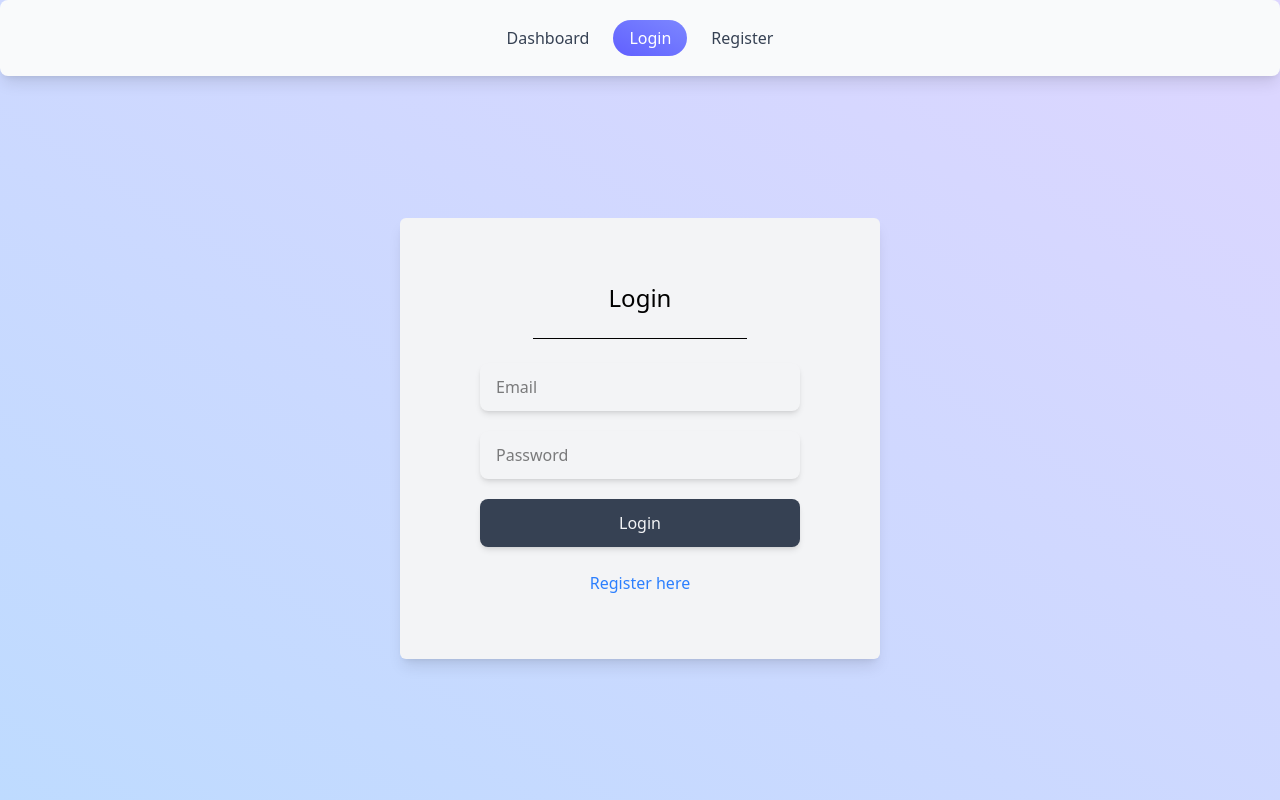
Test case: visiting login route › guest attempts to login with correct credentials
Expected: the heading "Login" is shown, [608,280,671,314]
Type "test@email.com" into the field with placeholder "Email".
click(640, 386); type("test@email.com")  # box [480,362,800,410]
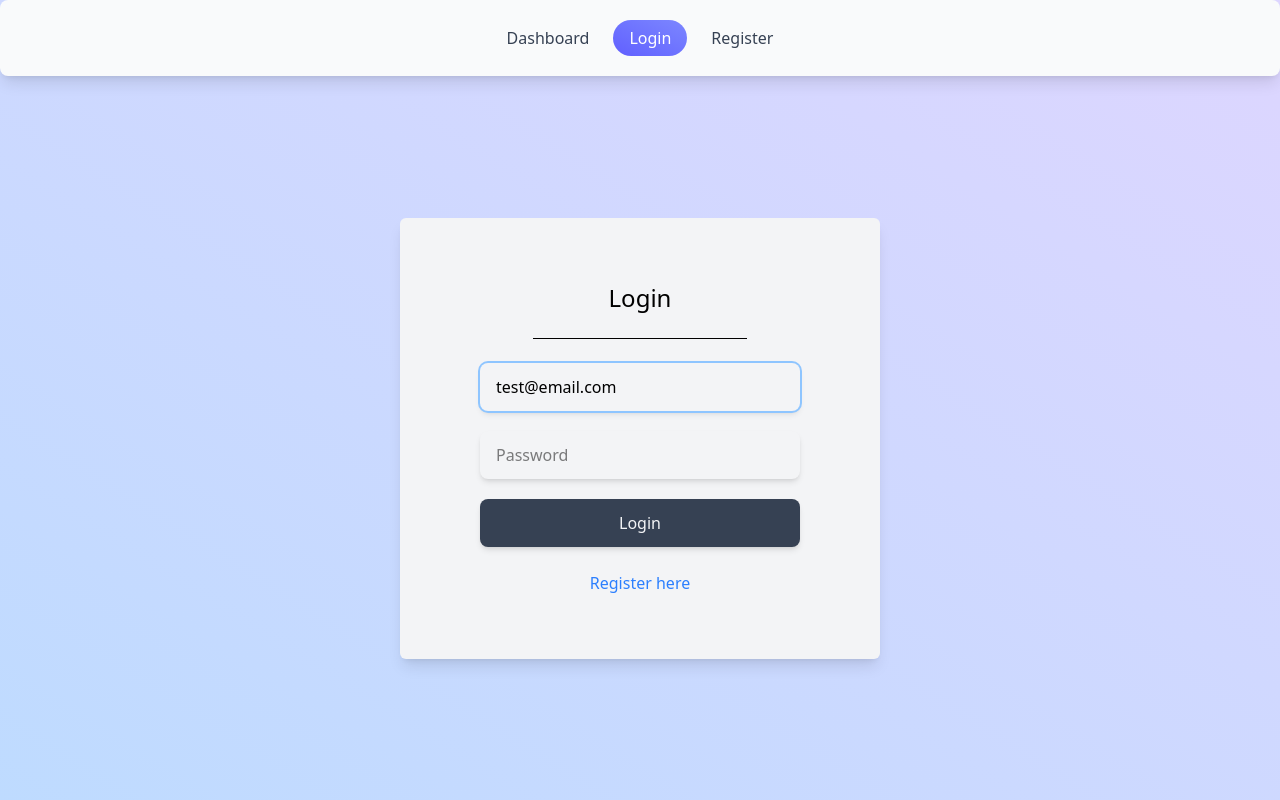
Type "password" into the password field with placeholder "Password".
click(640, 454); type("password")  # box [480,430,800,478]
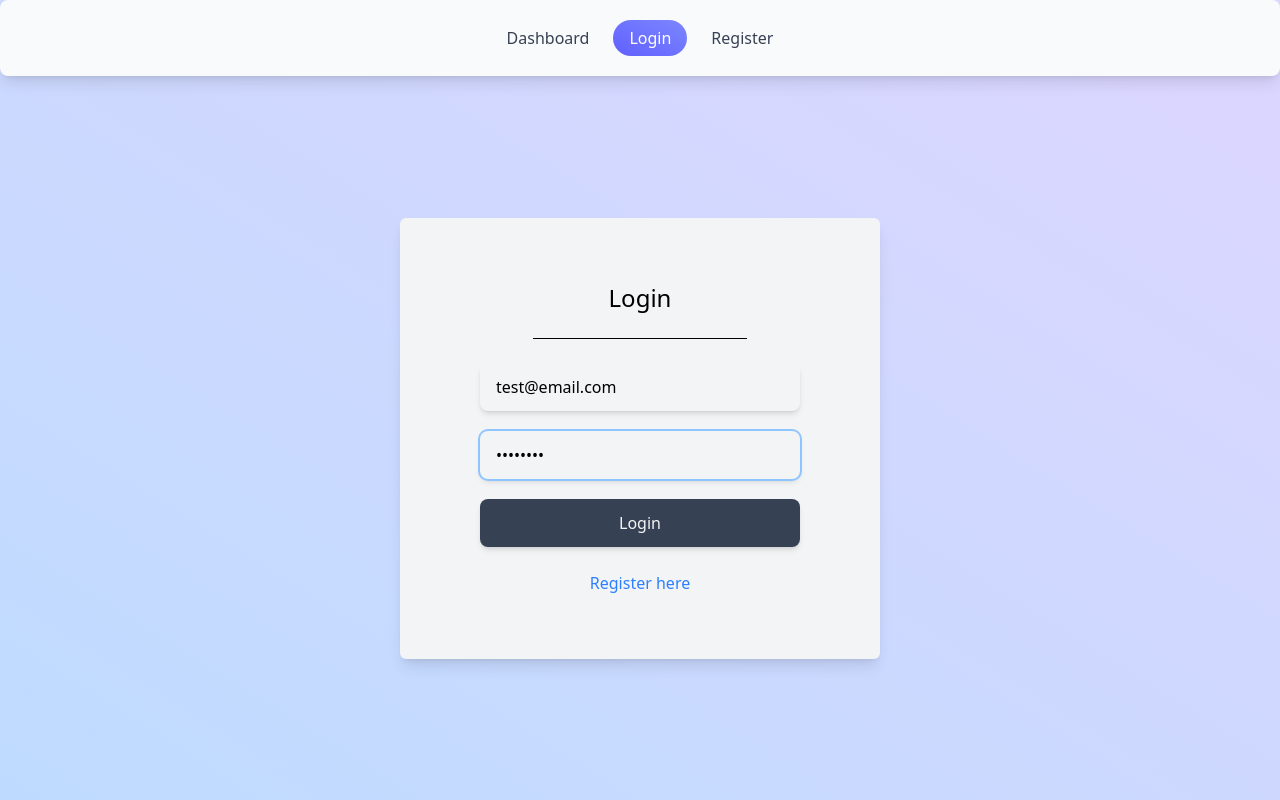
Submit the form
Click the button "Login".
click(640, 522)  # box [480,498,800,546]
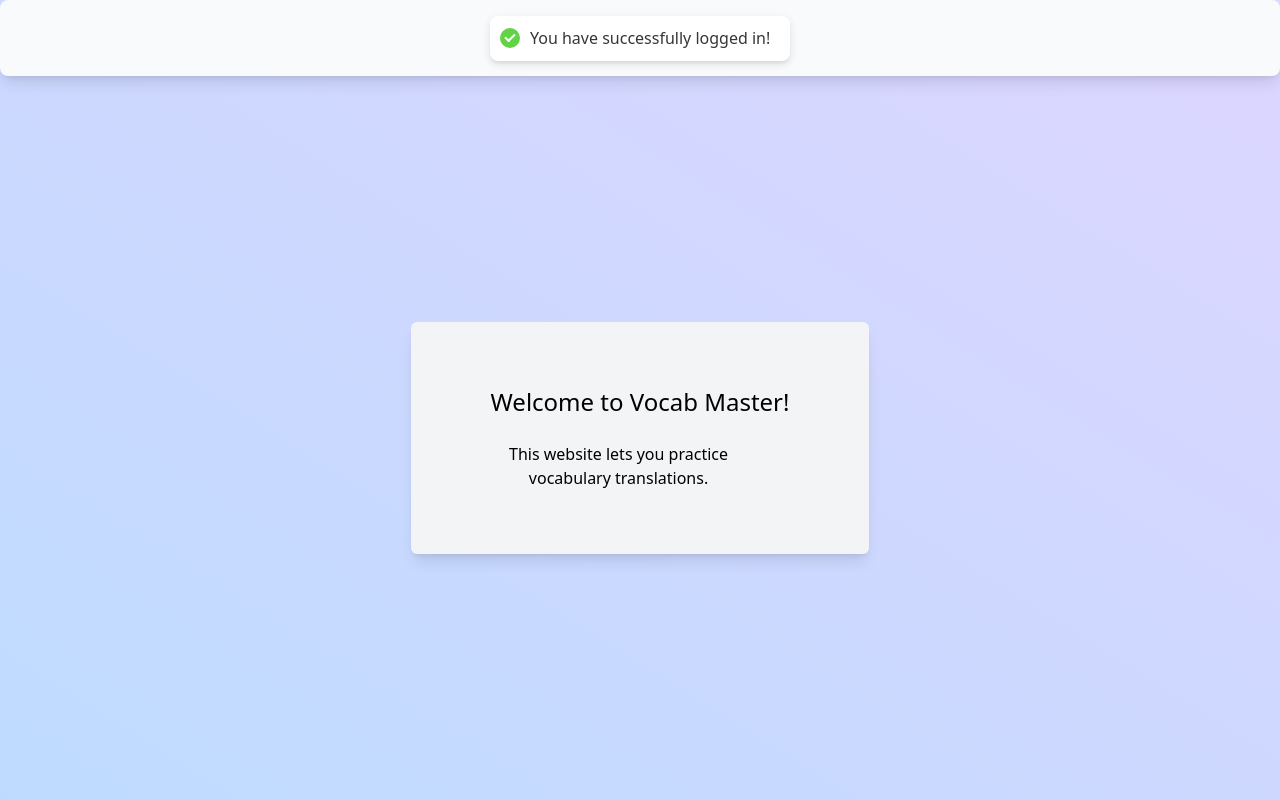
Now the text "You have successfully logged in!" is shown, box [530,28,770,49]
